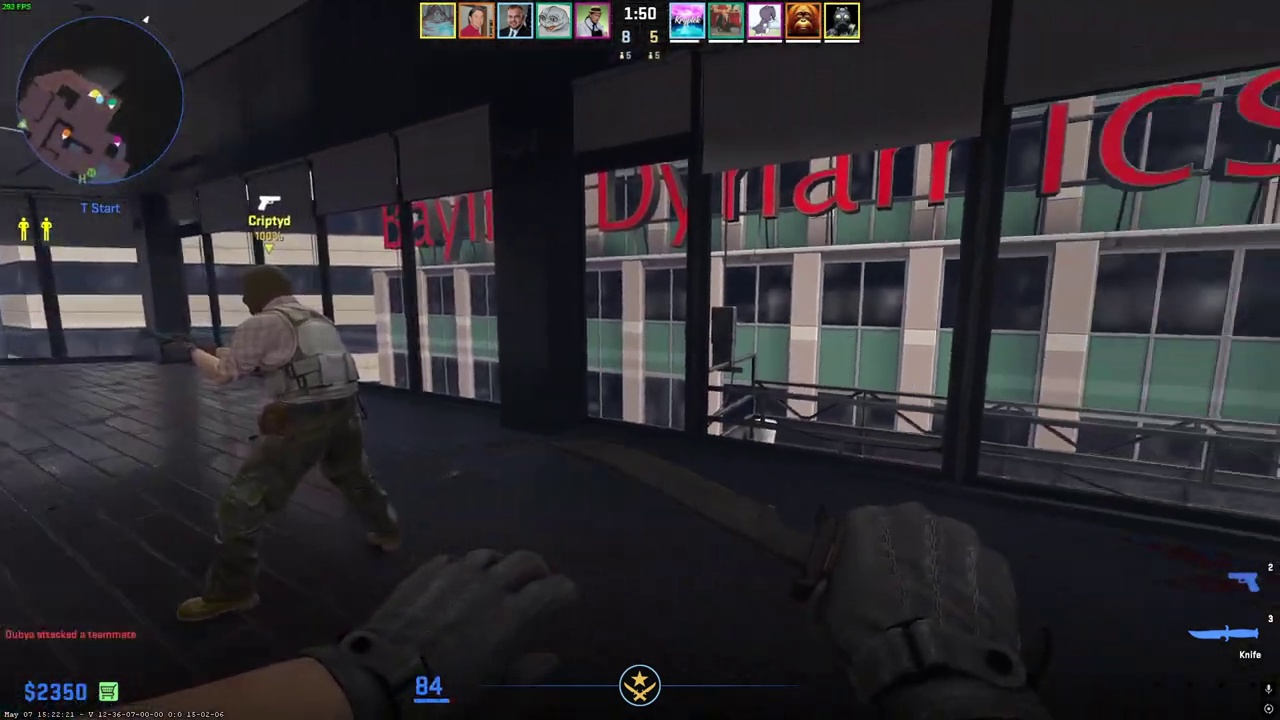Terrorist: (203, 264, 376, 603)
